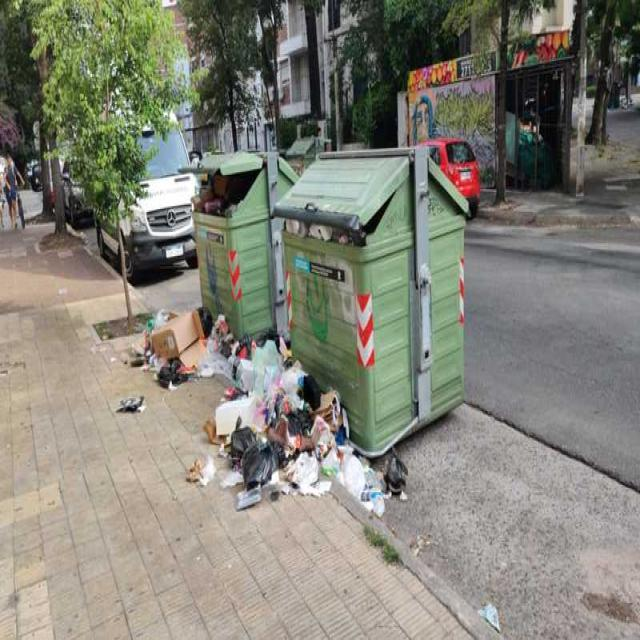garbage: (113, 305, 367, 512), (369, 443, 418, 518), (282, 212, 366, 254), (187, 172, 242, 222), (474, 584, 508, 640)
